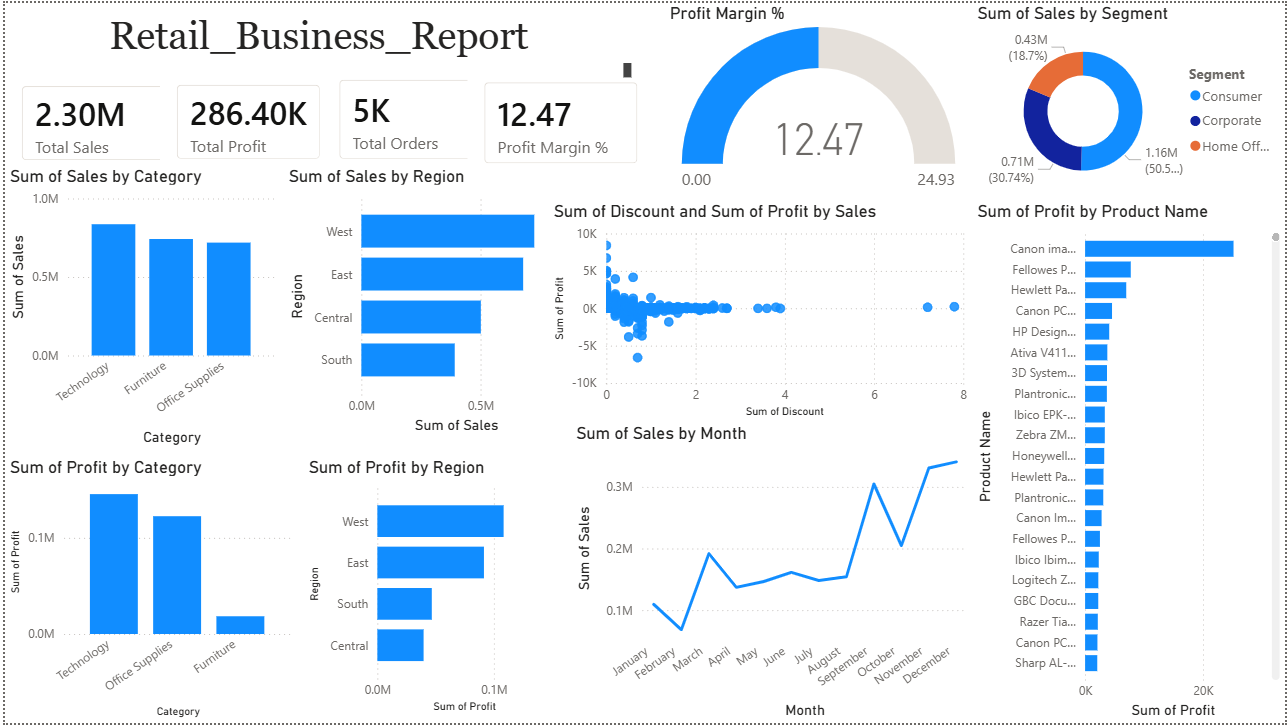

The page's visual inventory and layout, read from the dashboard file:
{"tool":"powerbi","page":{"name":"Page 1","canvas":[1280,720],"ordinal":0},"visuals":[{"type":"cardVisual","fields":{"Data":["cleaned_superstore.Total Sales"]},"box":[0,66.2,187.5,108.8],"z":0},{"type":"cardVisual","fields":{"Data":["cleaned_superstore.Total Profit"]},"box":[155,65,177.5,108.8],"z":1},{"type":"cardVisual","fields":{"Data":["cleaned_superstore.Total Orders"]},"box":[317.5,60,170,113.8],"z":2},{"type":"cardVisual","fields":{"Data":["cleaned_superstore.Profit Margin %"]},"box":[462.5,62.5,187.5,115],"z":3},{"type":"clusteredColumnChart","fields":{"Category":["cleaned_superstore.Category"],"Y":["Sum(cleaned_superstore.Sales)"]},"box":[0,162.5,276.2,285],"z":4},{"type":"clusteredColumnChart","fields":{"Category":["cleaned_superstore.Category"],"Y":["Sum(cleaned_superstore.Profit)"]},"box":[0,453.8,292.5,266.2],"z":5},{"type":"lineChart","fields":{"Y":["Sum(cleaned_superstore.Sales)"],"Category":["cleaned_superstore.Ship Date.Variation.Date Hierarchy.Month"]},"box":[566.2,420,401.2,300],"z":6},{"type":"clusteredBarChart","fields":{"Category":["cleaned_superstore.Region"],"Y":["Sum(cleaned_superstore.Sales)"]},"box":[278.8,162.5,287.5,272.5],"z":7},{"type":"clusteredBarChart","fields":{"Category":["cleaned_superstore.Region"],"Y":["Sum(cleaned_superstore.Profit)"]},"box":[298.8,453.8,267.5,261.2],"z":8},{"type":"scatterChart","fields":{"X":["Sum(cleaned_superstore.Discount)"],"Y":["Sum(cleaned_superstore.Profit)"],"Category":["cleaned_superstore.Sales"]},"box":[543.8,197.5,423.8,222.5],"z":9},{"type":"barChart","fields":{"Category":["cleaned_superstore.Product Name"],"Y":["Sum(cleaned_superstore.Profit)"]},"box":[967.5,197.5,312.5,522.5],"z":10},{"type":"donutChart","fields":{"Category":["cleaned_superstore.Segment"],"Y":["Sum(cleaned_superstore.Sales)"]},"box":[967.5,0,312.5,197.5],"z":11},{"type":"gauge","fields":{"Y":["cleaned_superstore.Profit Margin %"]},"box":[660,0,307.5,197.5],"z":12},{"type":"textbox","title":"Retail_Business_Report","box":[0,0,627.5,75],"z":13}]}

Visuals, with their boxes in screenshot pixels (x1, y1, x2, y2), scaled from the page's 1280x720 canvas onto the 1287x725 screenshot:
cardVisual - cleaned_superstore.Total Sales: (left=0, top=67, right=189, bottom=176)
cardVisual - cleaned_superstore.Total Profit: (left=156, top=65, right=334, bottom=175)
cardVisual - cleaned_superstore.Total Orders: (left=319, top=60, right=490, bottom=175)
cardVisual - cleaned_superstore.Profit Margin %: (left=465, top=63, right=654, bottom=179)
clusteredColumnChart - cleaned_superstore.Category x Sum(cleaned_superstore.Sales): (left=0, top=164, right=278, bottom=451)
clusteredColumnChart - cleaned_superstore.Category x Sum(cleaned_superstore.Profit): (left=0, top=457, right=294, bottom=724)
lineChart - Sum(cleaned_superstore.Sales) x cleaned_superstore.Ship Date.Variation.Date Hierarchy.Month: (left=569, top=423, right=973, bottom=724)
clusteredBarChart - cleaned_superstore.Region x Sum(cleaned_superstore.Sales): (left=280, top=164, right=569, bottom=438)
clusteredBarChart - cleaned_superstore.Region x Sum(cleaned_superstore.Profit): (left=300, top=457, right=569, bottom=720)
scatterChart - Sum(cleaned_superstore.Discount) x Sum(cleaned_superstore.Profit): (left=547, top=199, right=973, bottom=423)
barChart - cleaned_superstore.Product Name x Sum(cleaned_superstore.Profit): (left=973, top=199, right=1286, bottom=724)
donutChart - cleaned_superstore.Segment x Sum(cleaned_superstore.Sales): (left=973, top=0, right=1286, bottom=199)
gauge - cleaned_superstore.Profit Margin %: (left=664, top=0, right=973, bottom=199)
"Retail_Business_Report" textbox: (left=0, top=0, right=631, bottom=76)
